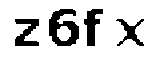6: (44, 5, 81, 47)
f: (82, 6, 106, 50)
x: (114, 15, 144, 49)
z: (13, 14, 42, 50)
